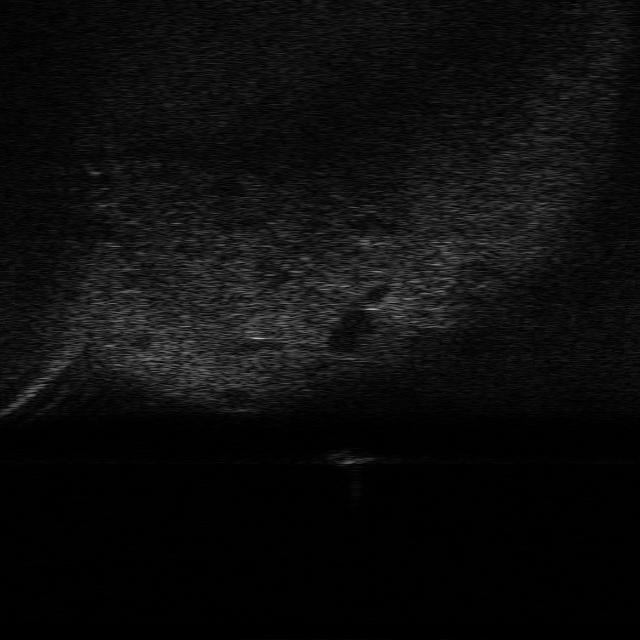cube: (322, 445, 376, 467)
